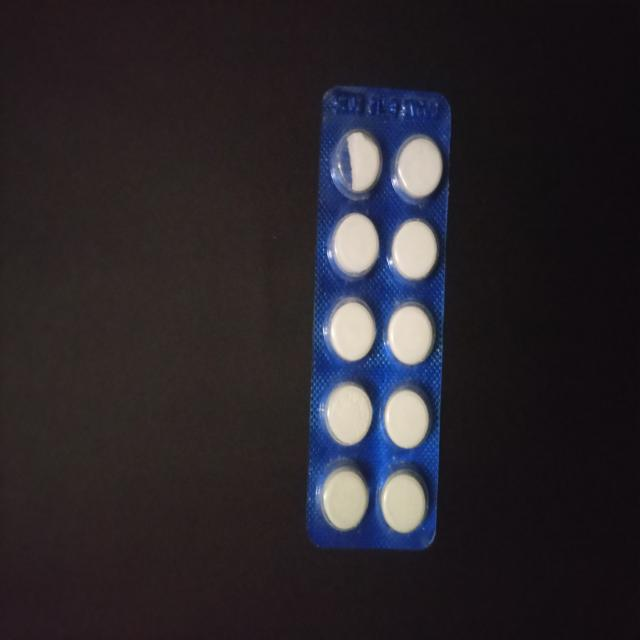defect: (328, 122, 384, 202)
